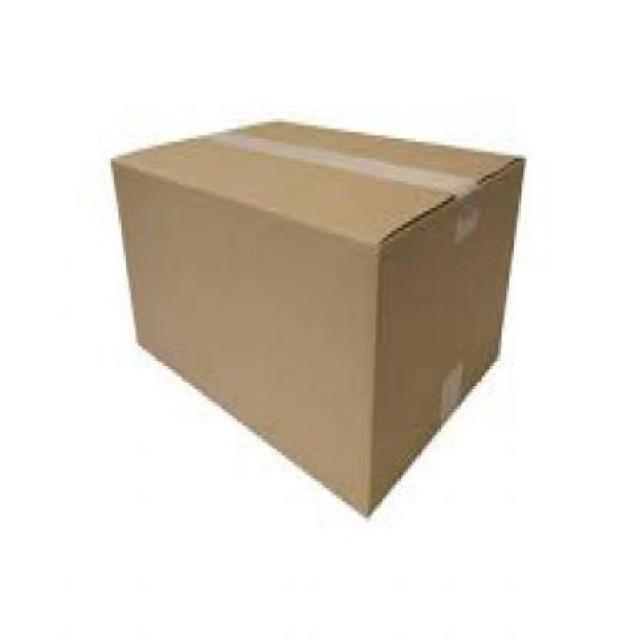PaperCardboard: (108, 112, 535, 520)
